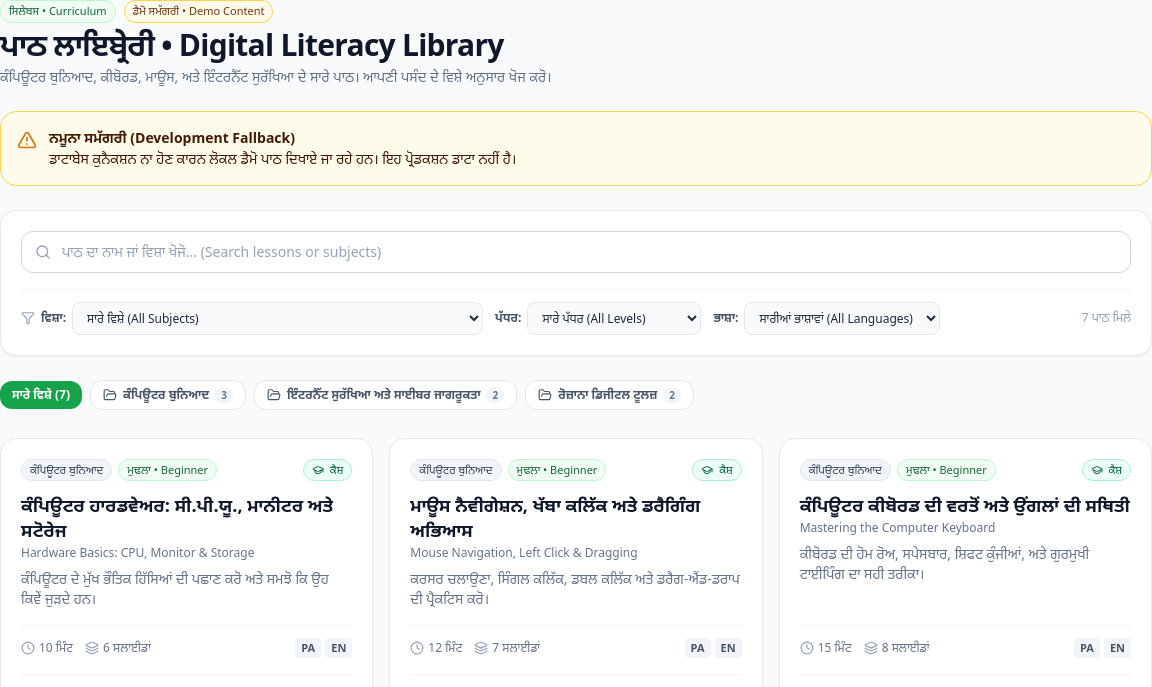
Test: LessonsPage Component (Lesson Library) › displays empty state when no lessons match query and allows clearing filters
Check: the heading "ਕੰਪਿਊਟਰ ਹਾਰਡਵੇਅਰ: ਸੀ.ਪੀ.ਯੂ., ਮਾਨੀਟਰ ਅਤੇ ਸਟੋਰੇਜ" is shown, box [21,493,352,543]
Type "nonexistent-query-xyz" into the field named "ਪਾਠ ਖੋਜੋ" at (576, 252), box [21,231,1131,273]
(page scrolled)
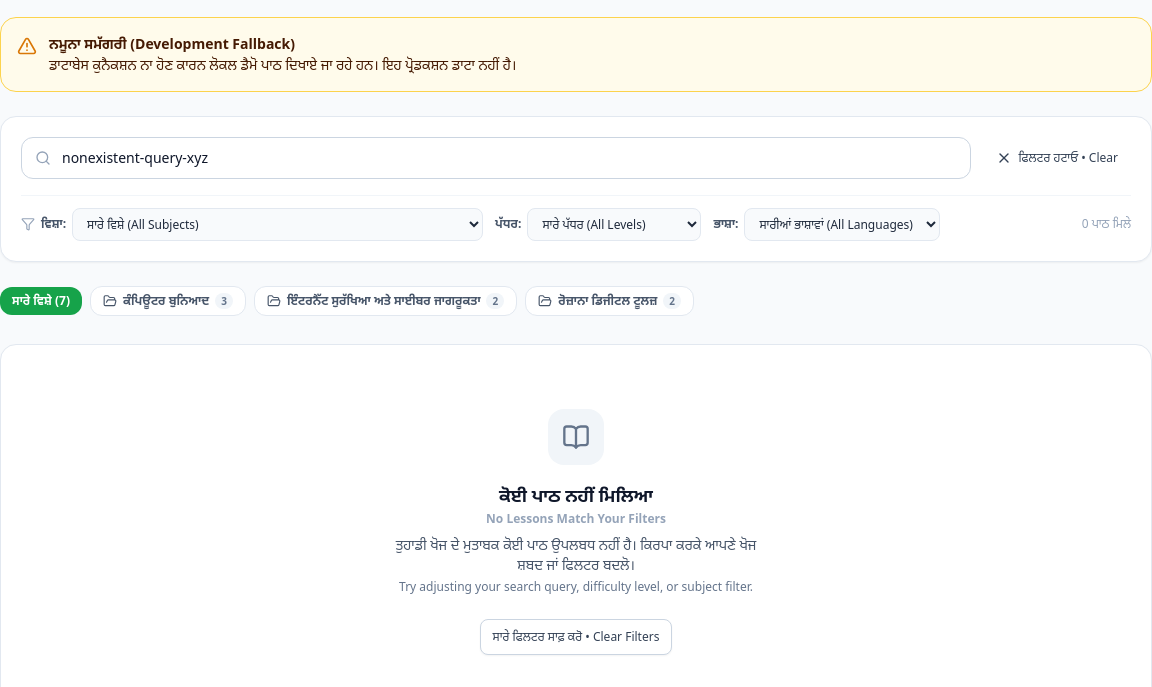
Check: the heading "ਕੋਈ ਪਾਠ ਨਹੀਂ ਮਿਲਿਆ" is shown, box [499,481,653,509]
Check: the text "No Lessons Match Your Filters" is shown, box [486,511,666,527]
Click the button "ਸਾਰੇ ਫਿਲਟਰ ਸਾਫ਼ ਕਰੋ • Clear Filters" at (576, 637), box [480,619,672,655]
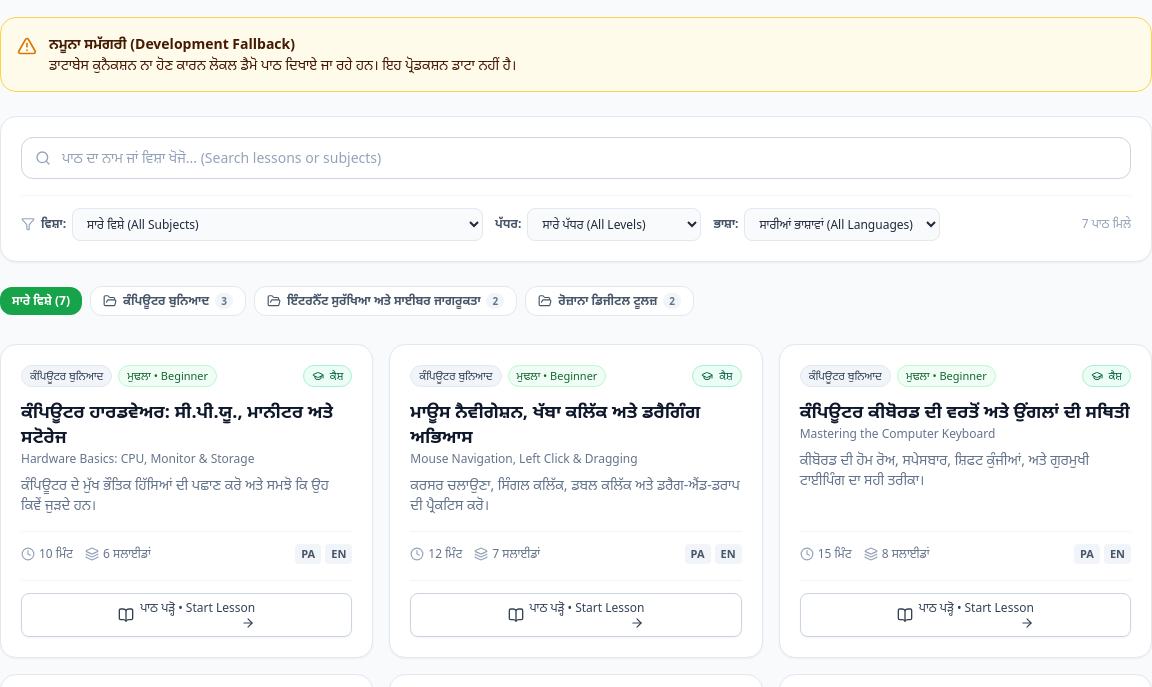
Check: the heading "ਕੰਪਿਊਟਰ ਹਾਰਡਵੇਅਰ: ਸੀ.ਪੀ.ਯੂ., ਮਾਨੀਟਰ ਅਤੇ ਸਟੋਰੇਜ" is shown, box [21,399,352,449]
